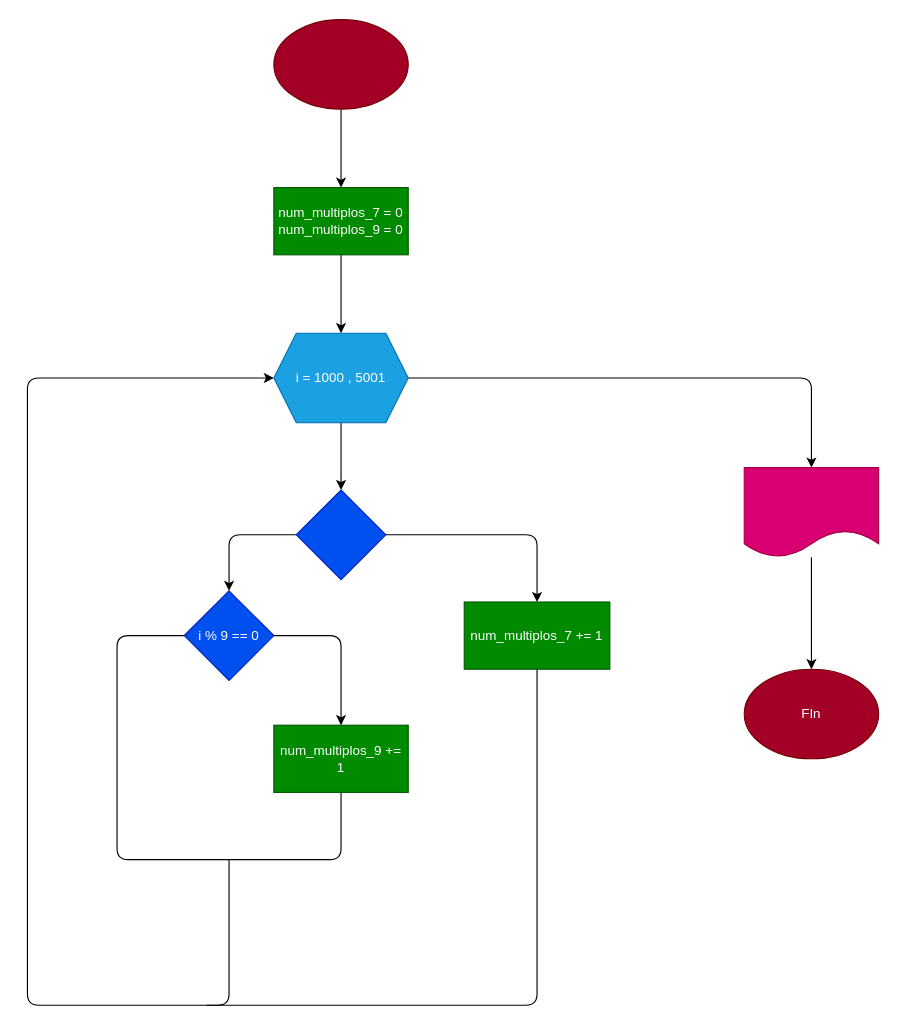
Some shapes in this 898 by 1034 pixel diagram are drawn without their labels. The shapes that lost their labels are listed below. From the top down, each one's box as (x1, y1, x2, y2) in pixels, then its label:
(273, 18, 408, 109): Inicio
(743, 466, 879, 557): num_multiplos_7 num_multiplos_9
(295, 489, 386, 580): i % 7 == 0
